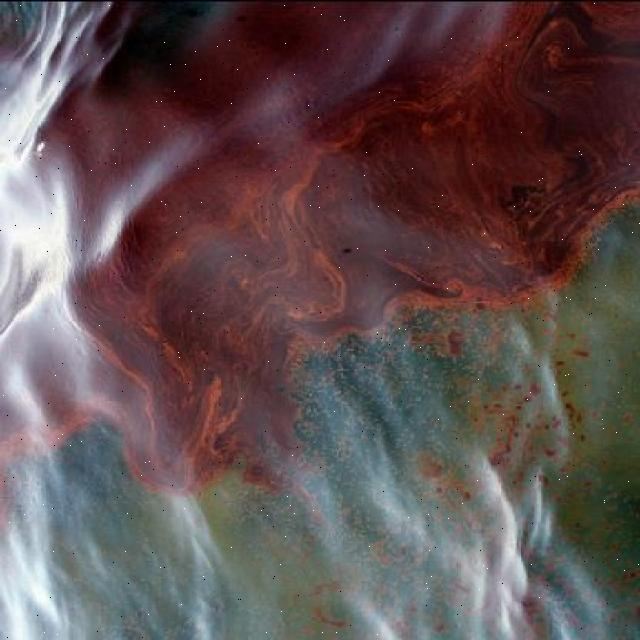truecolor: (40, 2, 640, 490)
